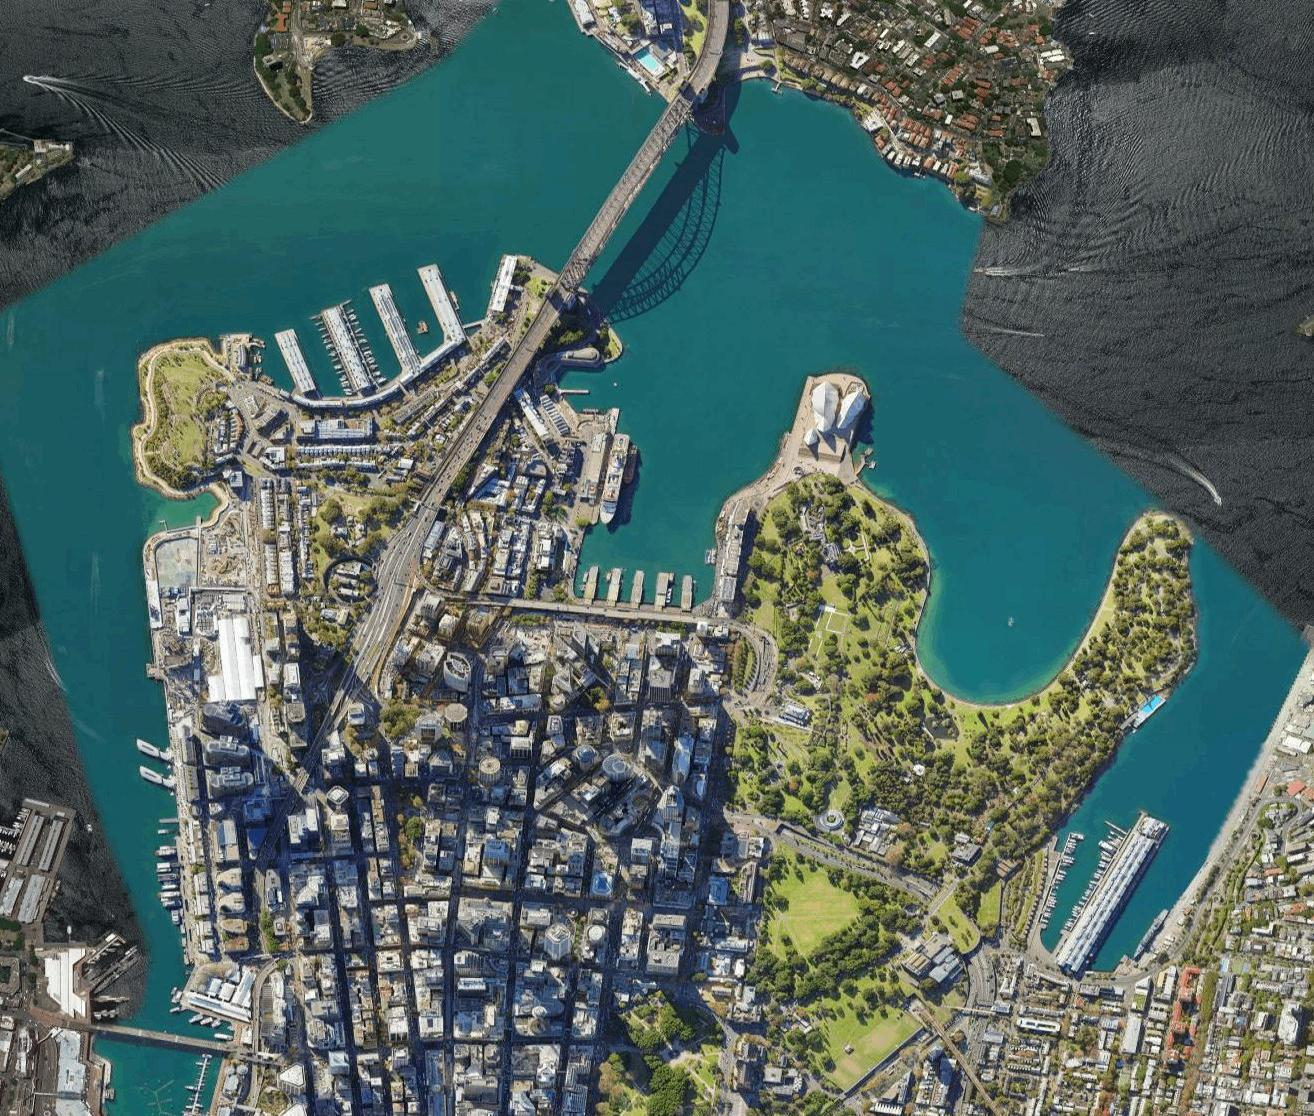bridge: (575, 105, 689, 280)
harbor: (112, 252, 778, 618), (1005, 784, 1212, 988), (131, 726, 230, 1038)
motorway: (561, 1, 739, 269), (403, 273, 575, 546)
